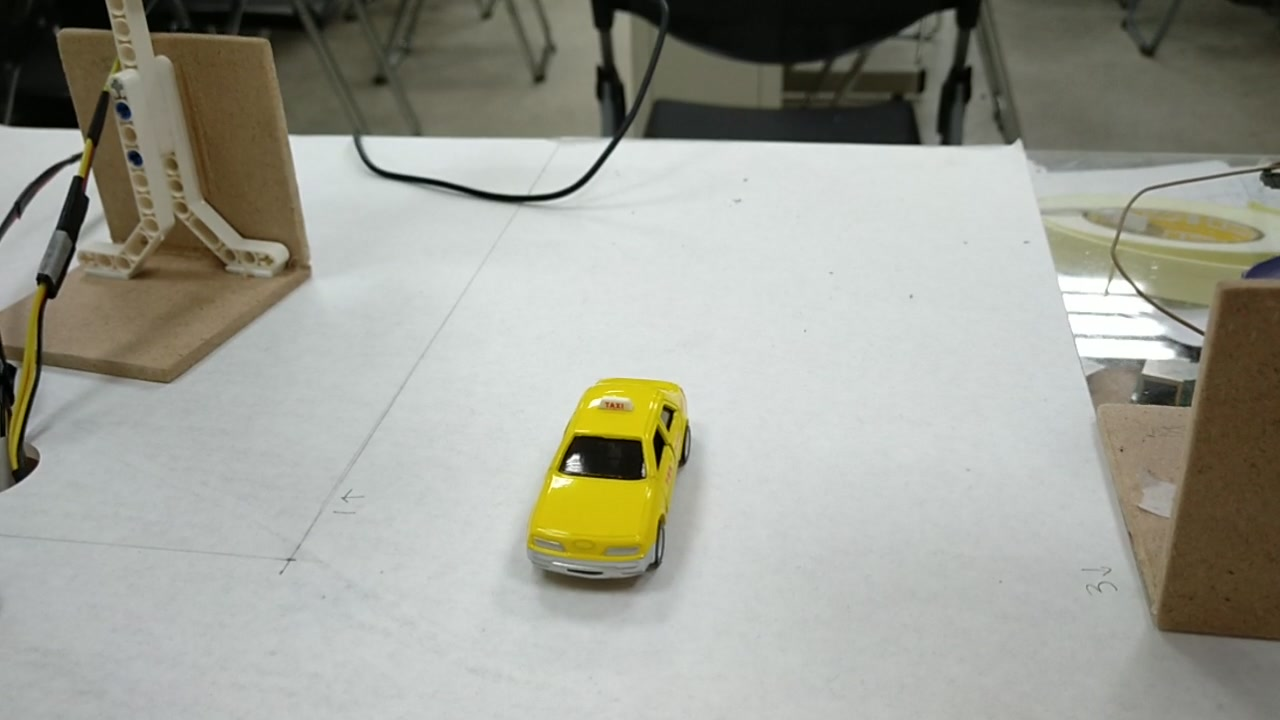car: (523, 376, 690, 593)
